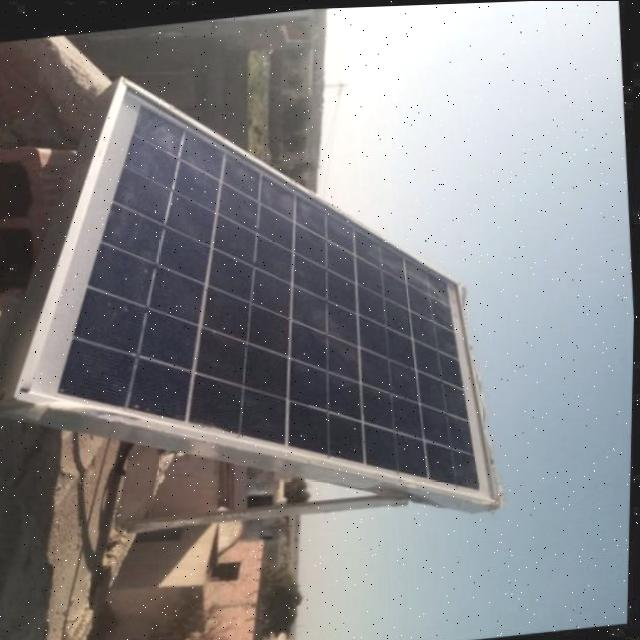Normal Solar Panel: (0, 38, 506, 549)
